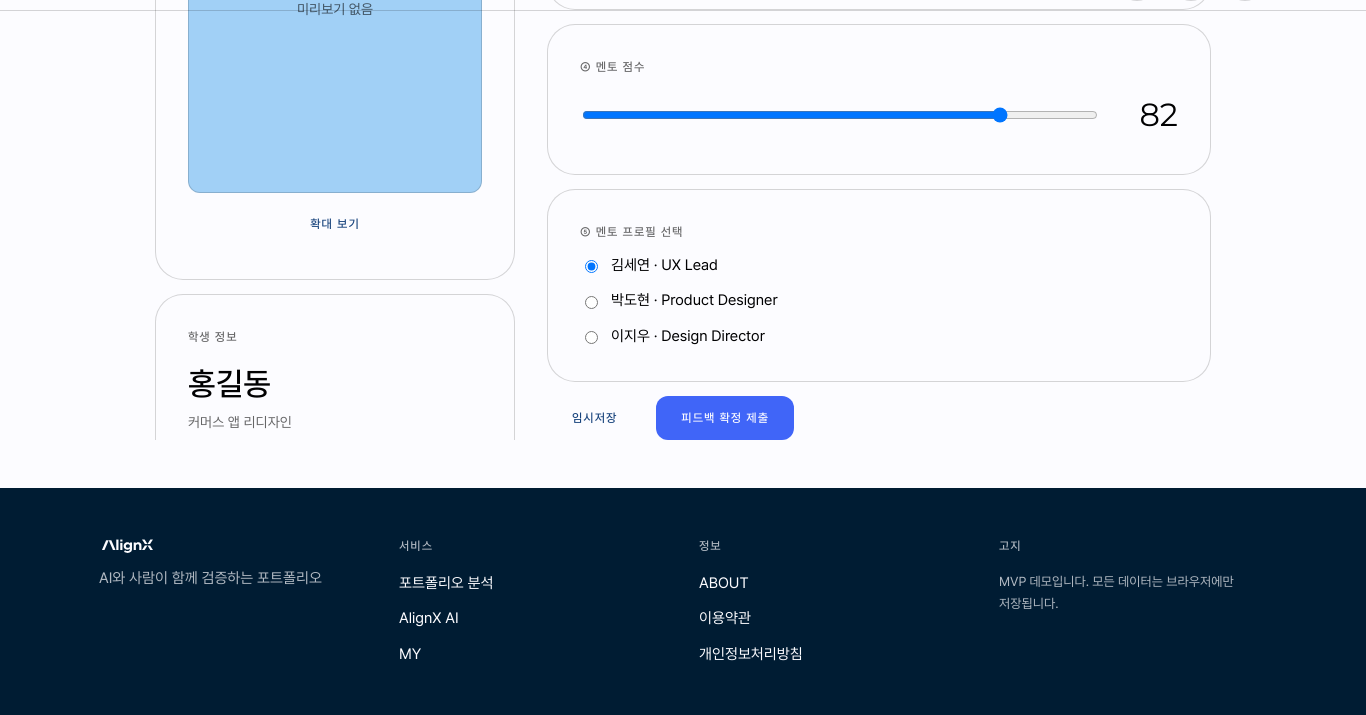
Test: AdminFeedbackPage — 임시저장 (10 §3.2) › 명시적으로 [임시저장]을 눌러도 저장 확인 문구가 뜬다
(page scrolled)
Click the button "임시저장" at (595, 418), box [547, 396, 642, 440]
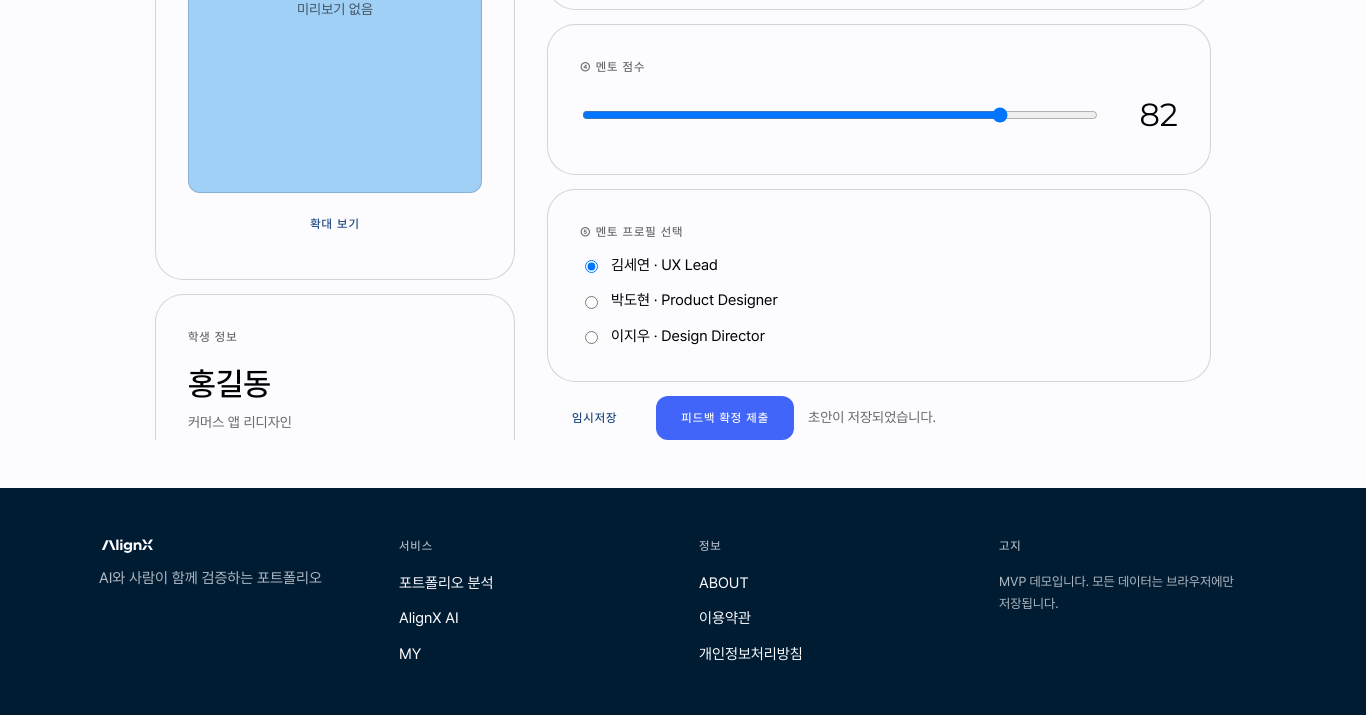
Expected: the text "초안이 저장되었습니다." is shown, [808, 406, 936, 430]
